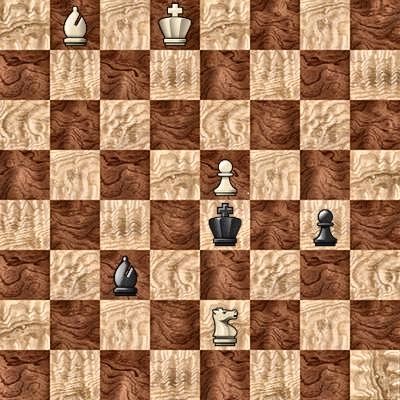black-bishop: (100, 250, 150, 300)
black-king: (200, 200, 250, 250)
black-pawn: (300, 200, 350, 250)
white-bishop: (50, 0, 100, 50)
white-king: (150, 0, 200, 50)
white-knight: (200, 300, 250, 350)
white-pawn: (200, 150, 250, 200)
